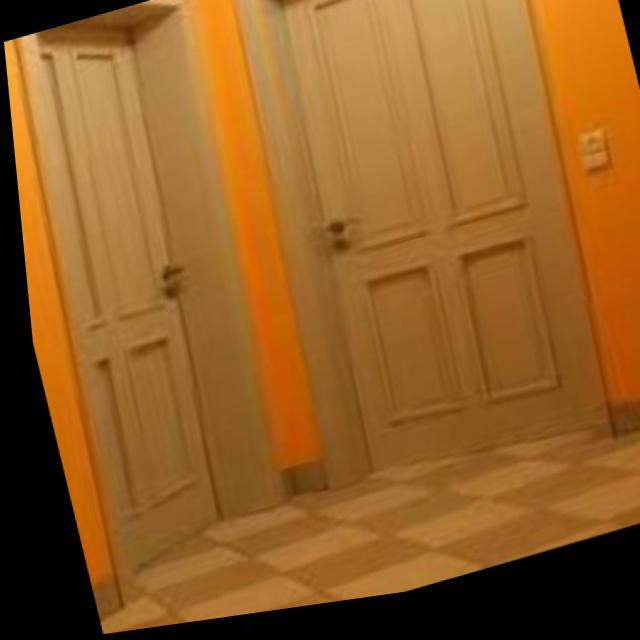door_handle: (313, 218, 362, 251)
